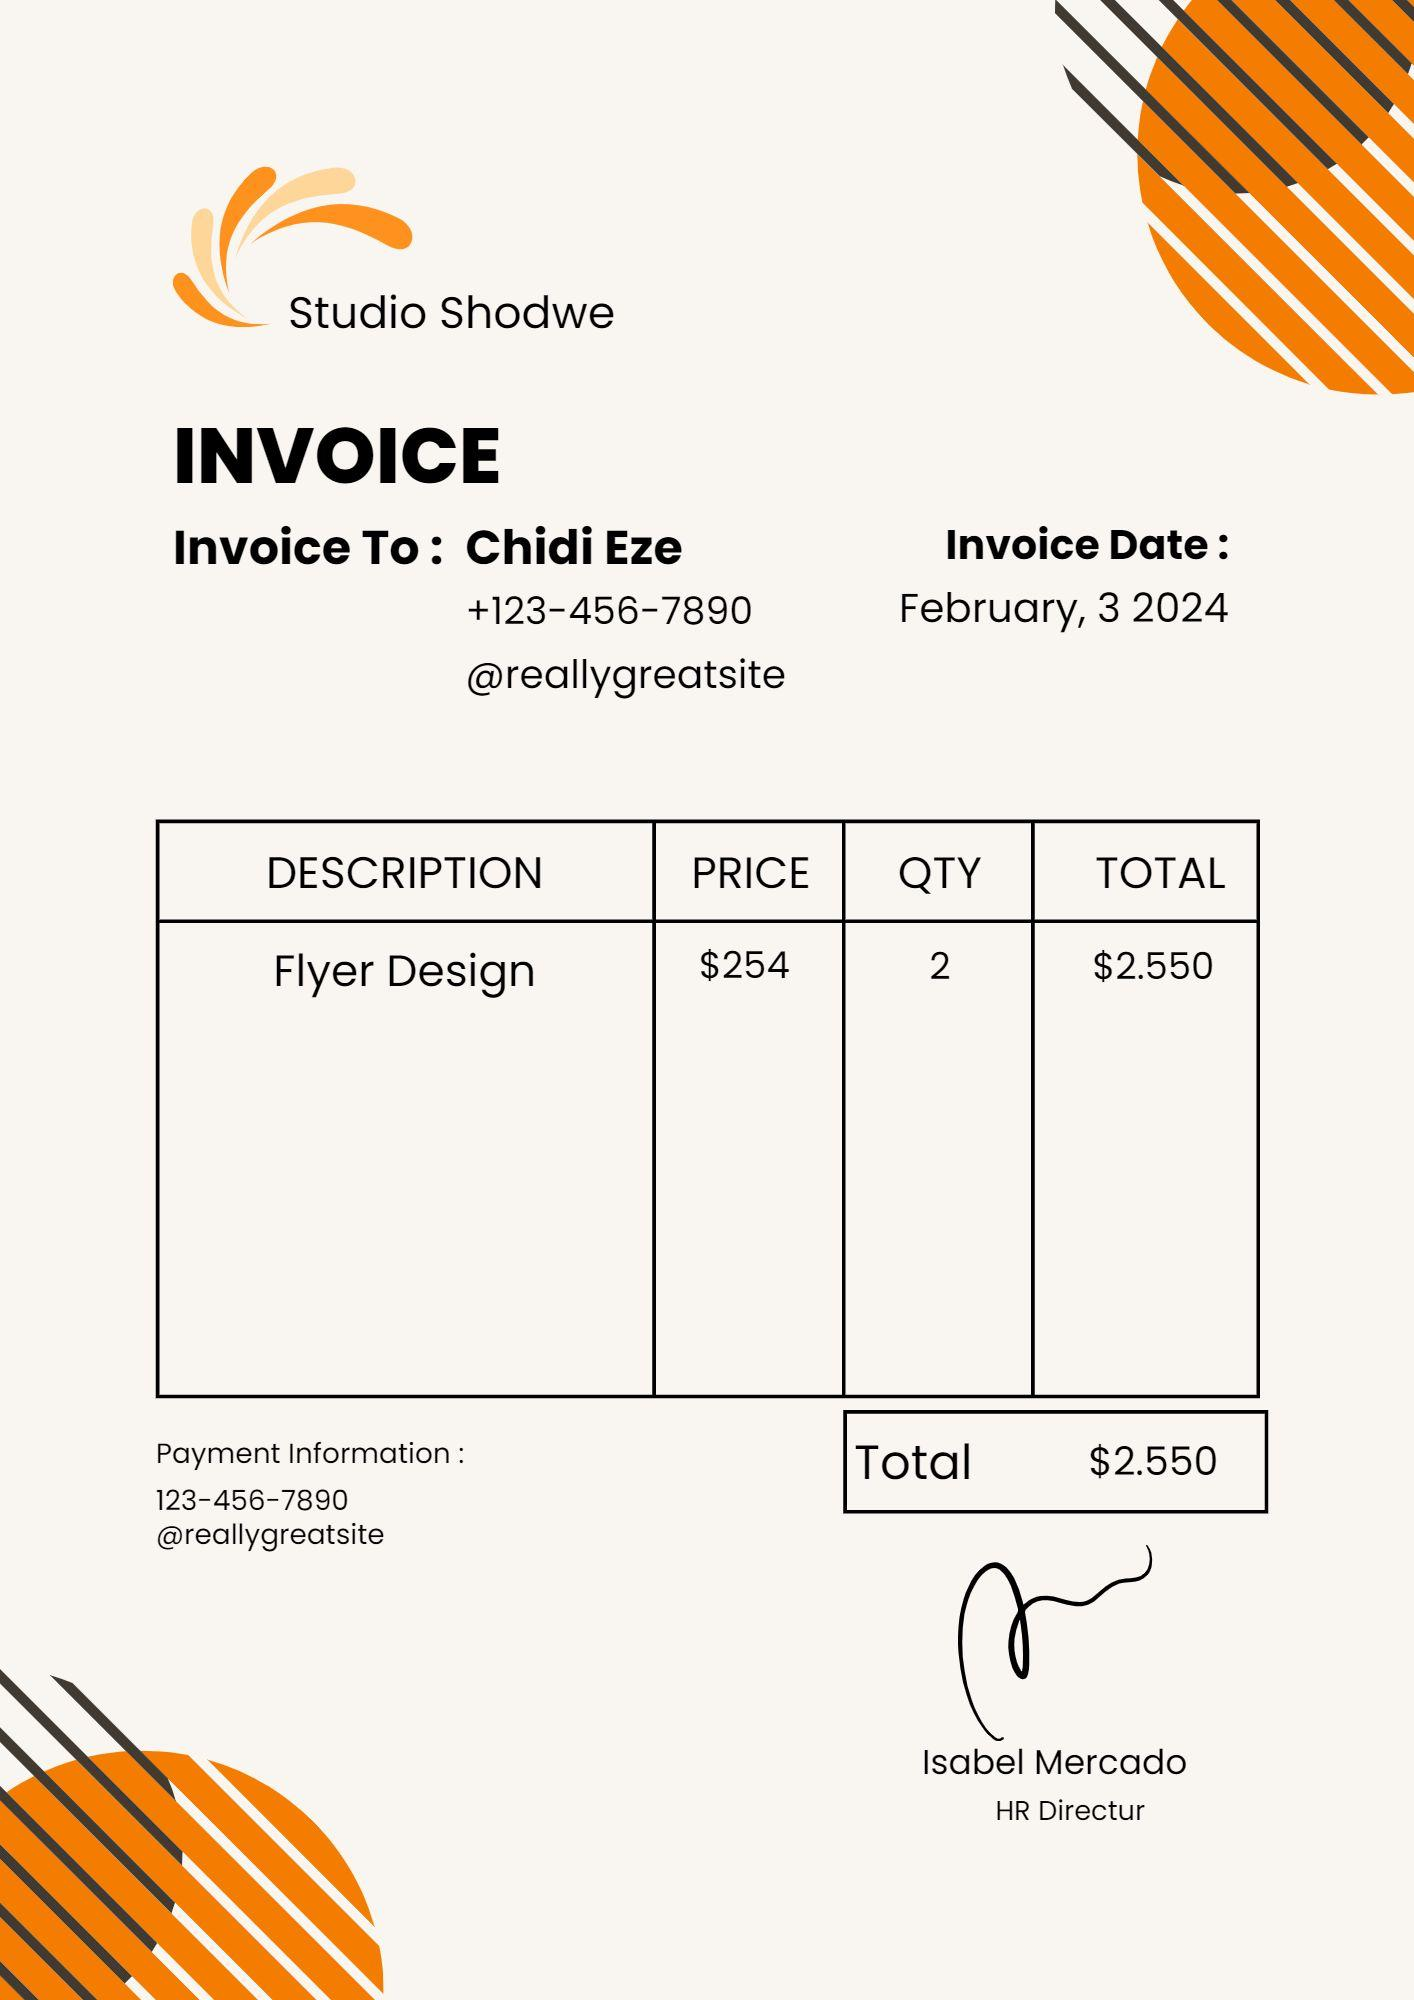ROI: (143, 806, 1265, 1404)
